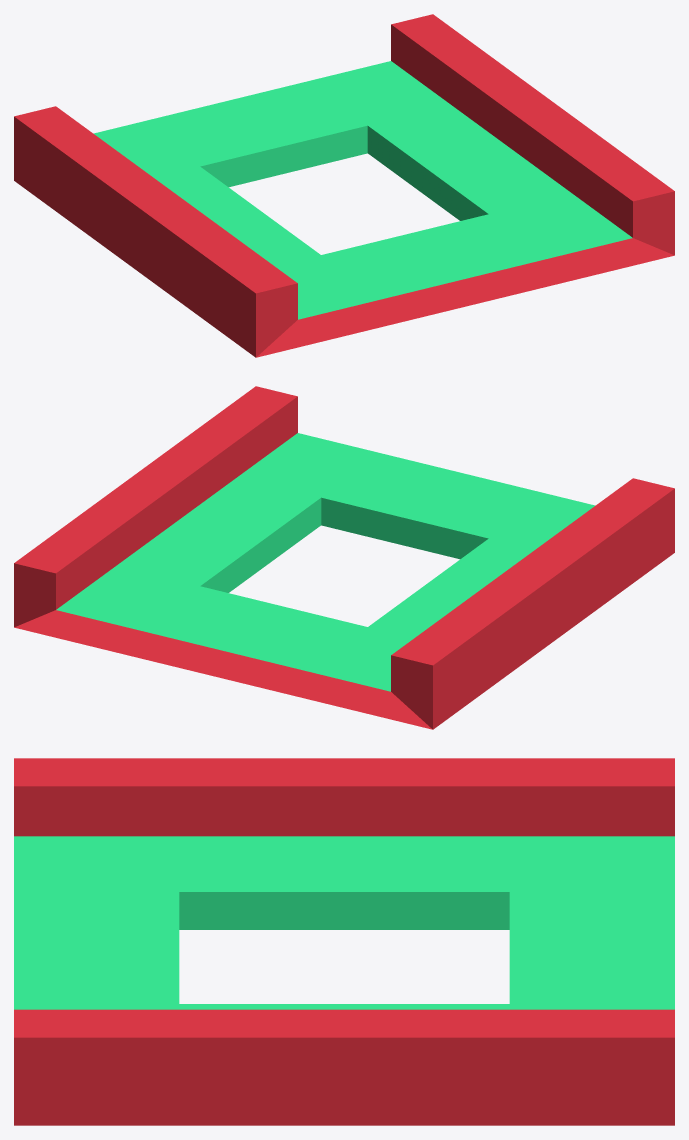
File: gap.fbx
3 views of the same model, one above another, from view 1: azimuth 30°, elevation 25°; view 2: azimuth 150°, elevation 25°; view 3: azimuth 270°, elevation 25° (orthographic). The views are drawn at different scales.
Parts seen in each view (by area): view 1: gap; view 2: gap; view 3: gap.
Boxes of the visible parts, x1,y1,x2,y2 form: gap: (14,14,674,357); gap: (14,386,674,729); gap: (14,758,674,1125).
Size of the model in its own units: 99.99 by 99.99 by 14.67.
